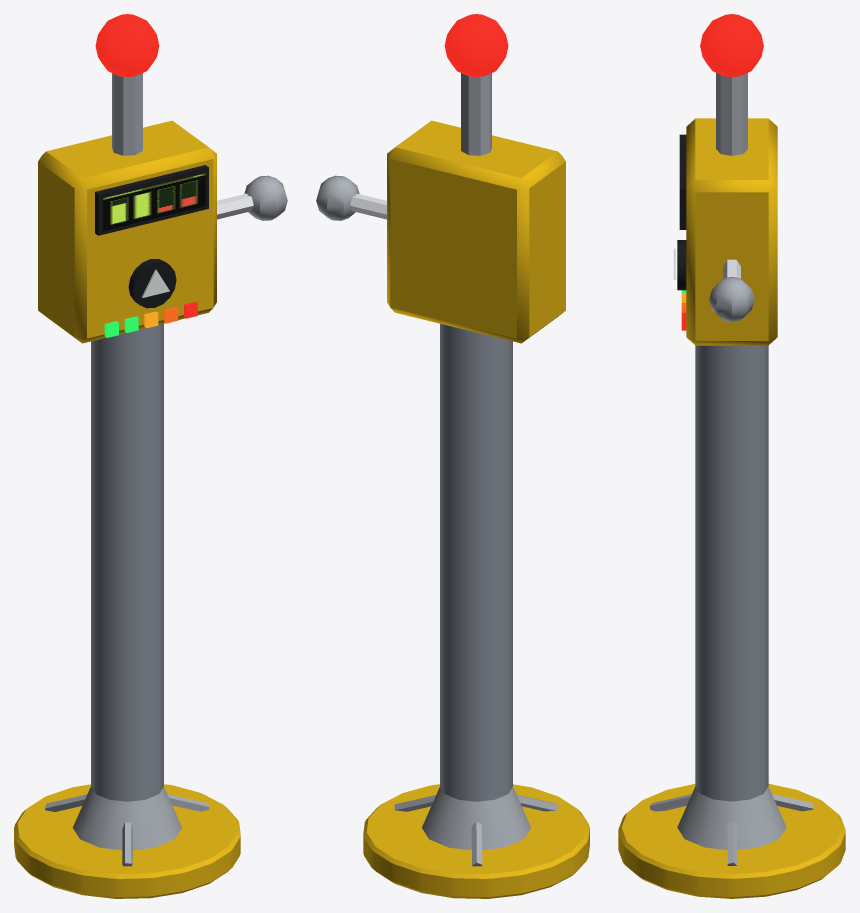
File: sciinstrument_radiation_monitor_post.glb
3 renders of one model, left to right at view 1: azimuth 30°, elevation 25°; view 2: azimuth 150°, elevation 25°; view 3: azimuth 270°, elevation 25°, orthographic.
Visible parts, largest first — view 1: sciinstrument_radiation_monitor_post; view 2: sciinstrument_radiation_monitor_post; view 3: sciinstrument_radiation_monitor_post.
Boxes of the visible parts, <box> form: sciinstrument_radiation_monitor_post: <box>14,14,287,898</box>; sciinstrument_radiation_monitor_post: <box>316,14,589,898</box>; sciinstrument_radiation_monitor_post: <box>618,14,845,898</box>.
Bounding box in the file's own units: 0.6488 × 2.02 × 0.4975.
Materials: 11 (1 with a texture image).
